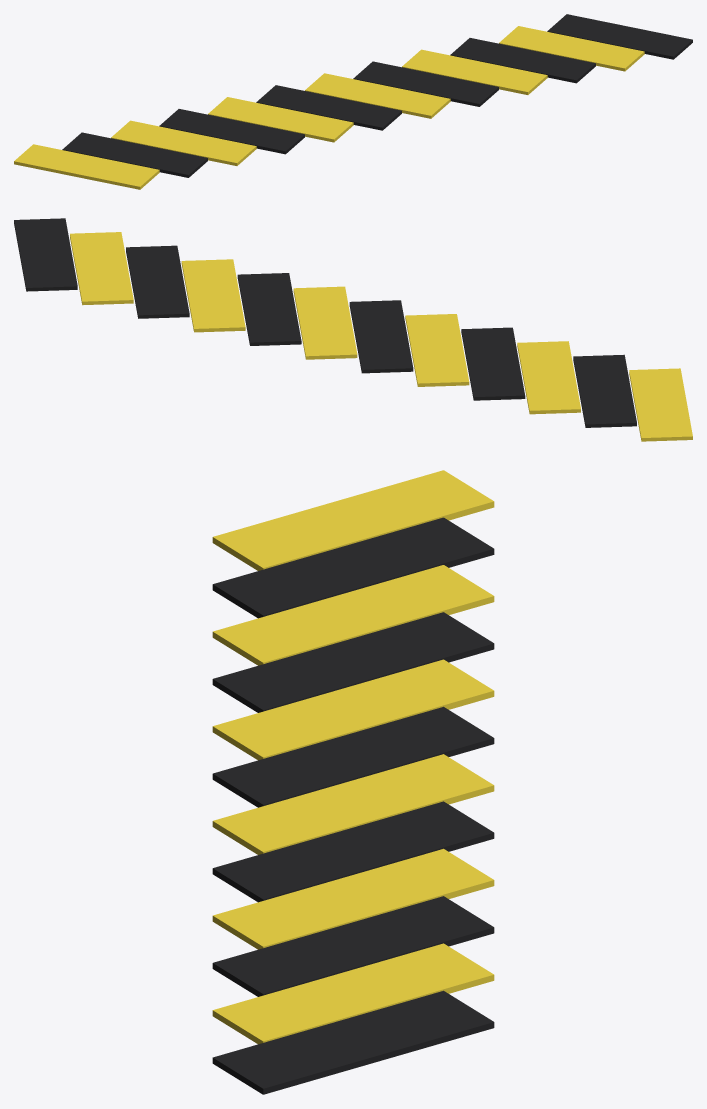
Rendered from floor_decal_hazard_stripes.glb.
3 renders of one model, top to bottom at view 1: azimuth 30°, elevation 25°; view 2: azimuth 150°, elevation 25°; view 3: azimuth 270°, elevation 25°, orthographic. The views are drawn at different scales.
Visible parts, largest first — view 1: GD_floor_decal_hazard_stripes__m0, GD_floor_decal_hazard_stripes__m1; view 2: GD_floor_decal_hazard_stripes__m0, GD_floor_decal_hazard_stripes__m1; view 3: GD_floor_decal_hazard_stripes__m1, GD_floor_decal_hazard_stripes__m0.
Part boxes in pixels (bbox=[...]): GD_floor_decal_hazard_stripes__m0: bbox=[14, 26, 644, 189]; GD_floor_decal_hazard_stripes__m1: bbox=[62, 14, 692, 177]; GD_floor_decal_hazard_stripes__m0: bbox=[70, 232, 692, 441]; GD_floor_decal_hazard_stripes__m1: bbox=[14, 218, 636, 427]; GD_floor_decal_hazard_stripes__m1: bbox=[212, 517, 494, 1094]; GD_floor_decal_hazard_stripes__m0: bbox=[212, 470, 494, 1044].
Size of the model in its own units: 2.61 by 0.012 by 0.503.
